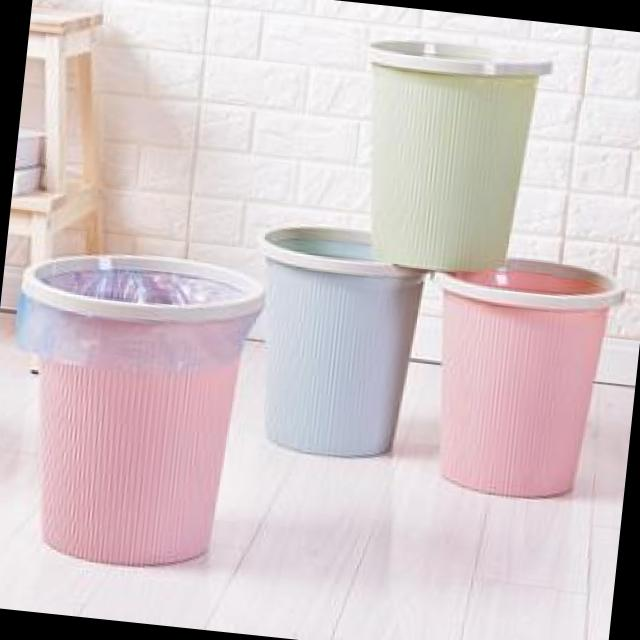dustbin: (0, 237, 272, 580), (416, 245, 632, 512), (340, 27, 560, 284), (232, 211, 438, 472)
